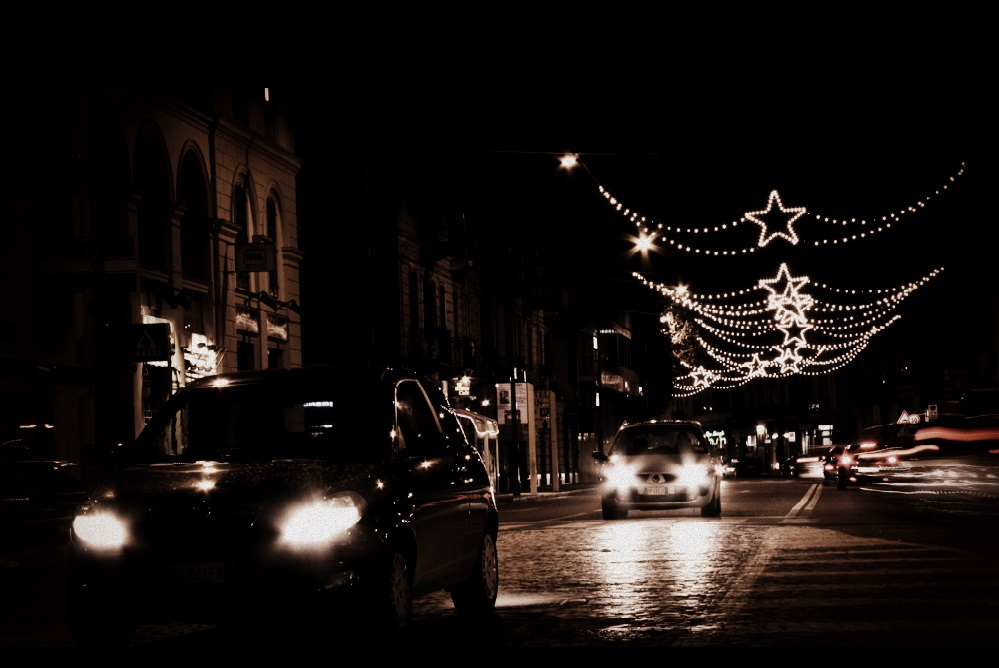car: (61, 364, 505, 638)
